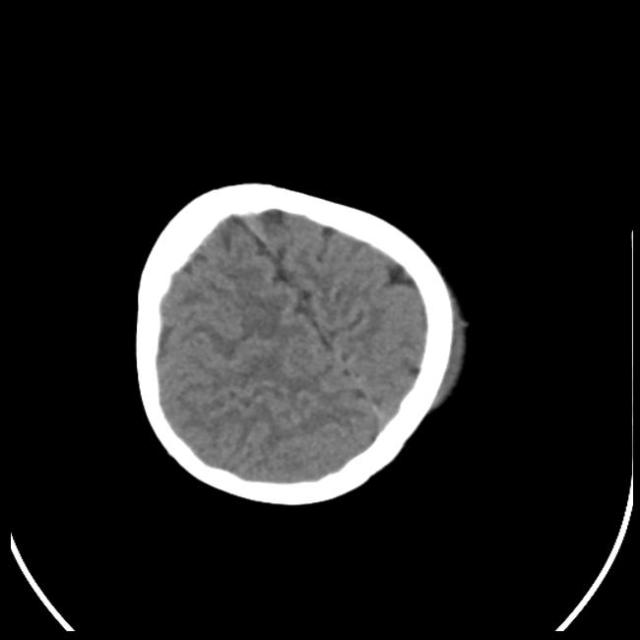lesion: (128, 175, 472, 511)
